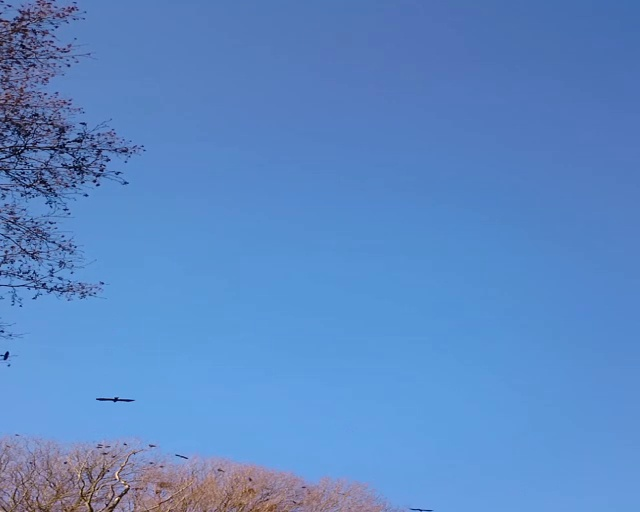BIRD: (352, 454, 378, 463)
